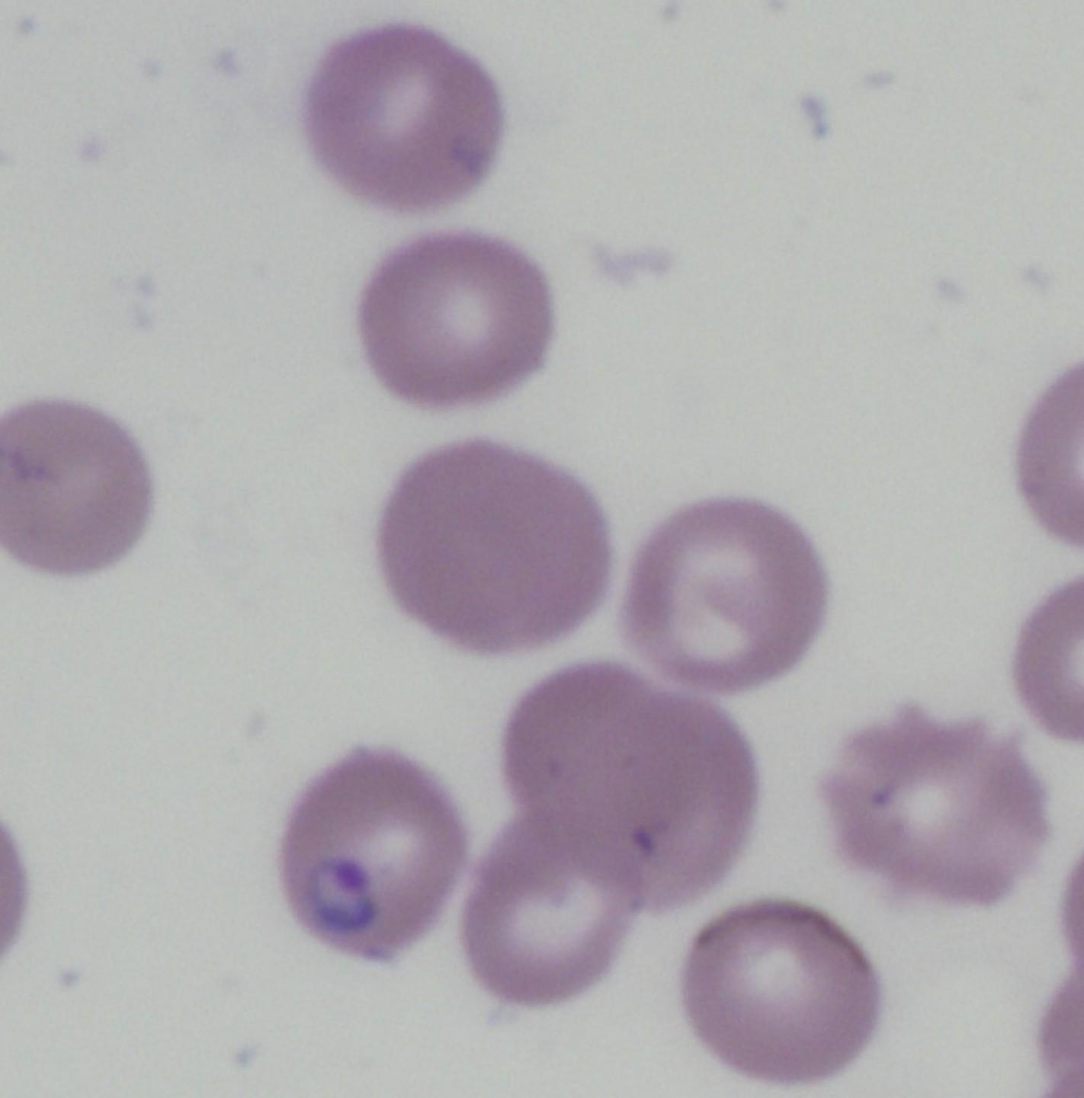Infected: (277, 742, 467, 962)
Uninfected: (379, 438, 617, 654), (816, 709, 1049, 905), (564, 689, 756, 908), (633, 491, 831, 698), (678, 897, 878, 1081), (457, 811, 651, 998), (307, 24, 504, 208), (363, 227, 553, 412), (0, 393, 162, 574), (506, 654, 645, 824)
